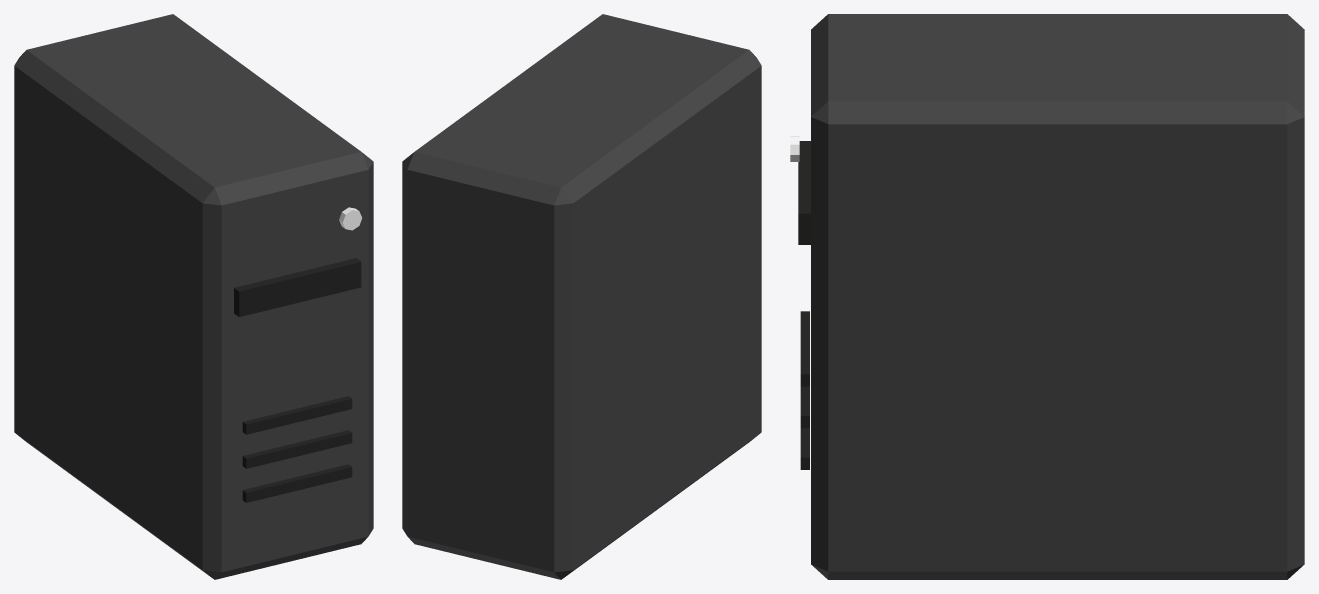
3 renders of one model, left to right at view 1: azimuth 30°, elevation 25°; view 2: azimuth 150°, elevation 25°; view 3: azimuth 270°, elevation 25°, orthographic. The views are drawn at different scales.
Parts seen in each view (by area): view 1: Tower, Drive, Vent.001, Vent.002, Vent; view 2: Tower; view 3: Tower, Drive, Vent.002.
Part boxes in pixels (x1,y1,x2,y2): Tower: (14,14,373,579); Drive: (234,258,361,317); Vent.001: (242,430,352,468); Vent.002: (242,396,352,434); Vent: (242,464,352,502); Tower: (402,14,761,579); Tower: (811,14,1304,579); Drive: (798,141,810,244); Vent.002: (800,311,809,386).
Size of the model in its own units: 21 by 46 by 44.8.
